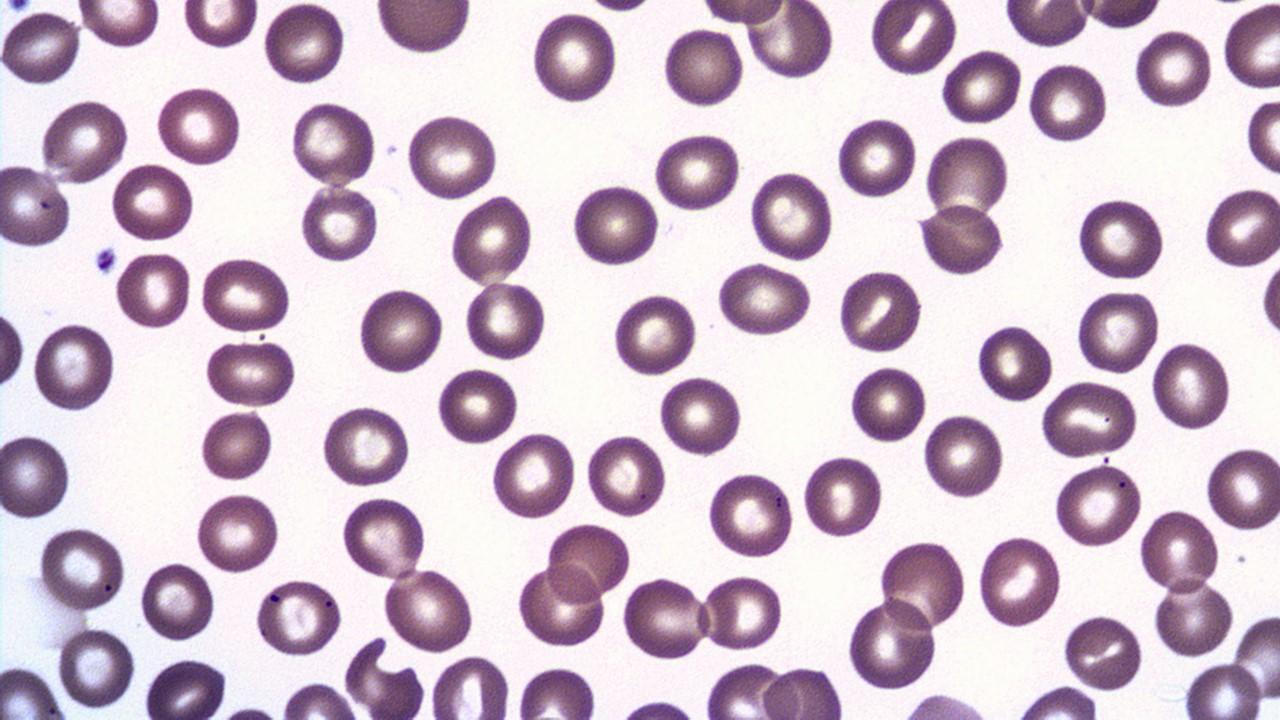Platelets: (92, 244, 118, 278), (2, 0, 35, 12)
RBC: (845, 594, 939, 694), (528, 8, 620, 108), (403, 110, 501, 203), (975, 531, 1063, 632), (568, 177, 662, 270), (355, 284, 446, 379), (879, 538, 968, 634), (318, 401, 414, 490), (1052, 459, 1144, 551), (38, 95, 131, 186), (34, 524, 128, 614), (1074, 193, 1168, 283), (381, 566, 475, 656), (924, 132, 1011, 229), (448, 191, 535, 288), (287, 97, 379, 188), (489, 428, 577, 523), (30, 318, 117, 414), (748, 167, 834, 264), (704, 468, 794, 560), (514, 562, 608, 650), (1039, 378, 1141, 459), (714, 259, 816, 340), (620, 573, 710, 664), (920, 409, 1007, 503), (610, 289, 700, 379), (1073, 286, 1161, 378), (650, 129, 744, 215), (1150, 336, 1232, 434), (338, 493, 430, 580), (835, 267, 924, 356), (1137, 504, 1221, 598), (656, 371, 745, 459), (154, 81, 243, 169), (800, 451, 886, 542), (261, 0, 348, 89), (193, 488, 282, 575), (584, 430, 668, 522), (743, 0, 835, 83), (197, 254, 292, 334), (660, 23, 746, 111), (834, 112, 918, 202), (252, 576, 343, 659), (463, 277, 548, 364), (1025, 58, 1109, 146), (109, 160, 196, 244), (56, 623, 137, 713), (202, 336, 300, 410), (434, 364, 520, 448), (938, 44, 1024, 128), (545, 520, 633, 602), (1203, 442, 1280, 535), (1132, 25, 1214, 112), (1062, 610, 1146, 694), (1150, 576, 1234, 660), (1200, 184, 1280, 271), (866, 1, 956, 78), (974, 320, 1055, 405), (138, 558, 217, 645), (0, 428, 73, 522), (848, 361, 928, 446), (0, 159, 73, 252), (700, 572, 784, 652), (113, 247, 192, 332), (918, 202, 1006, 277), (0, 6, 81, 87), (298, 184, 379, 264), (197, 406, 275, 484), (141, 654, 230, 718), (375, 1, 473, 57), (427, 653, 511, 718), (1221, 0, 1280, 92), (1178, 658, 1266, 717), (1230, 609, 1280, 709), (515, 662, 600, 720), (759, 662, 845, 718), (76, 1, 162, 50), (180, 1, 260, 53), (0, 658, 68, 718), (1004, 1, 1089, 49), (277, 678, 362, 720), (1244, 96, 1280, 177), (1074, 0, 1168, 31), (0, 300, 26, 398), (697, 0, 790, 26), (1258, 252, 1280, 347)
